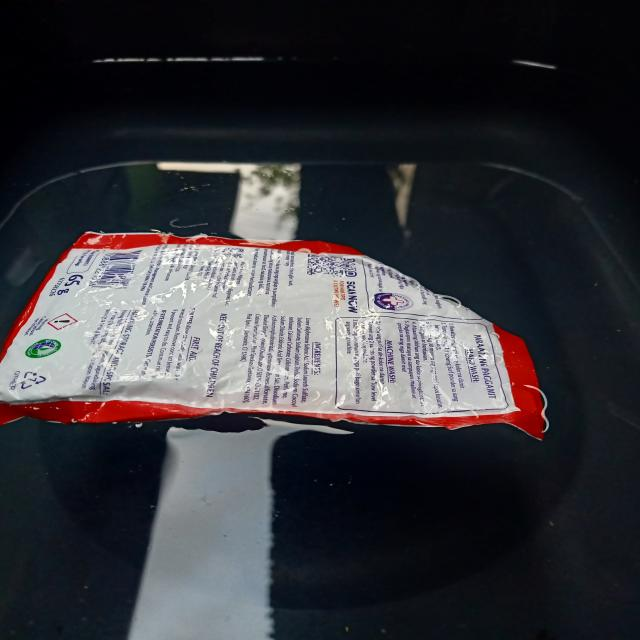Plastic Wrapper: (0, 232, 545, 438)
